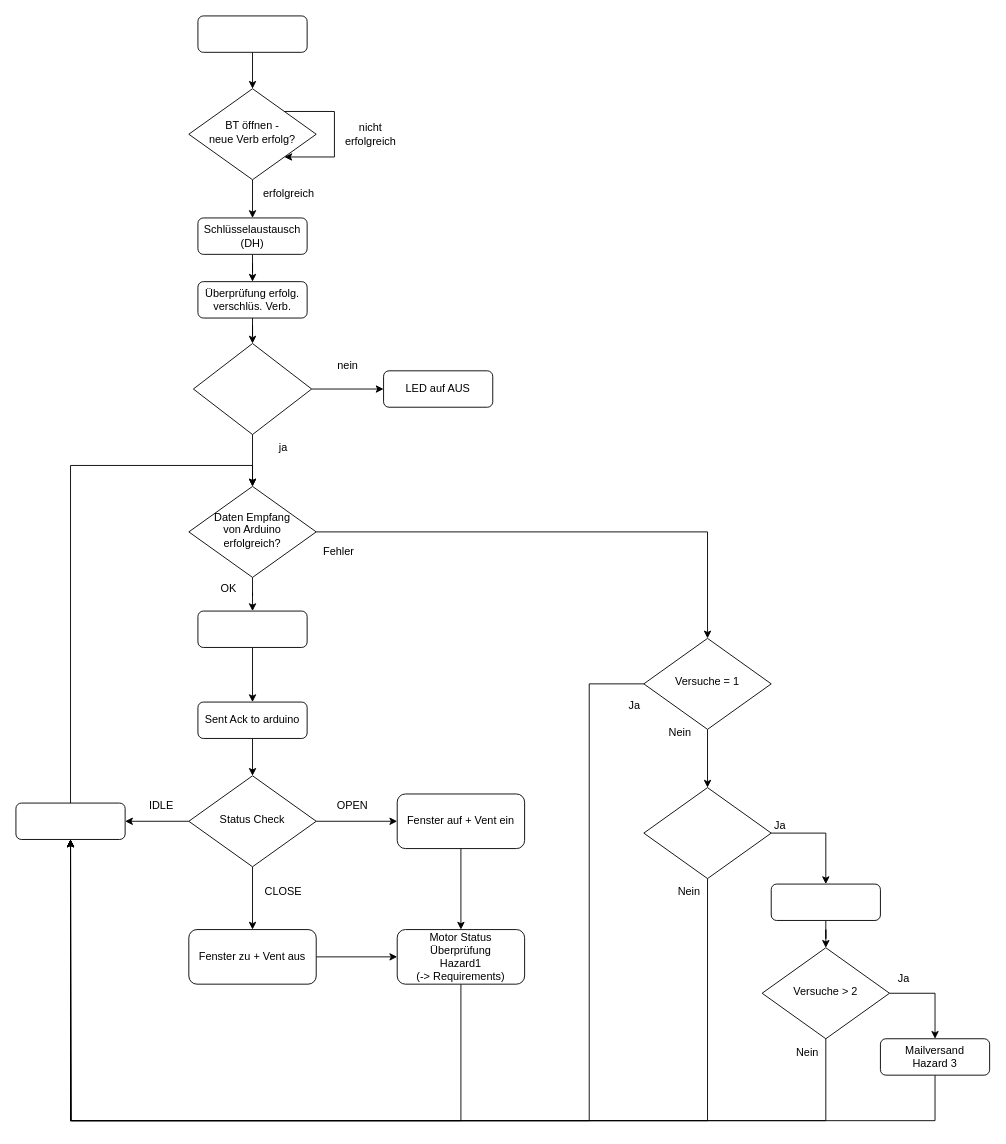
Some shapes in this 1006 by 1144 pixel diagram are drawn without their labels. Each missing label, with the centre of its shape:
"10 Sek Wait" belongs at (x=70, y=820).
"Check int. Systeme" belongs at (x=252, y=33).
"initial Fenster auf & zu erfolgreich?" belongs at (x=252, y=389).
"LED auf AN" belongs at (x=252, y=628).
"LED soll Blinken" belongs at (x=825, y=901).
"Versuche > 1" belongs at (x=707, y=833).
